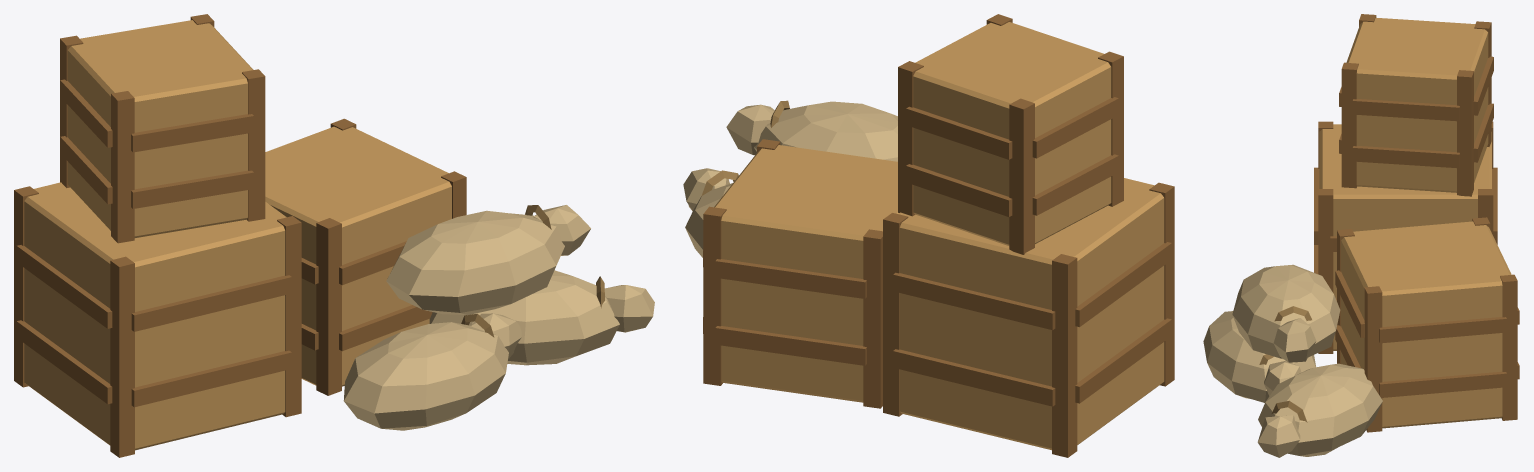
The model's file is harbor_crate_stack_v01.glb.
The picture shows the model from 3 angles, left to right: view 1: azimuth 30°, elevation 25°; view 2: azimuth 150°, elevation 25°; view 3: azimuth 270°, elevation 25°; orthographic projection. The views are drawn at different scales.
Visible parts, largest first — view 1: crate_stack; view 2: crate_stack; view 3: crate_stack.
Boxes of the visible parts, x1,y1,x2,y2 form: crate_stack: (14,14,654,457); crate_stack: (683,14,1174,457); crate_stack: (1203,14,1519,457).
Bounding box in the file's own units: 2.29 × 1.41 × 1.46.
